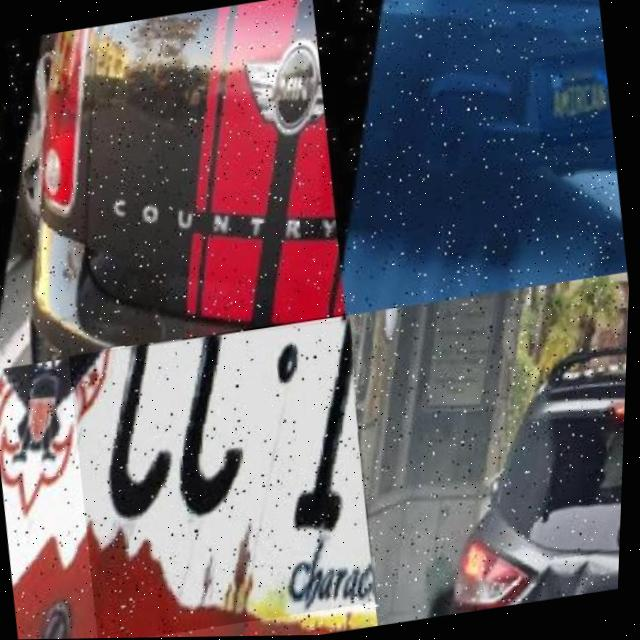LicensePlate: (63, 313, 391, 639), (530, 49, 617, 150)
